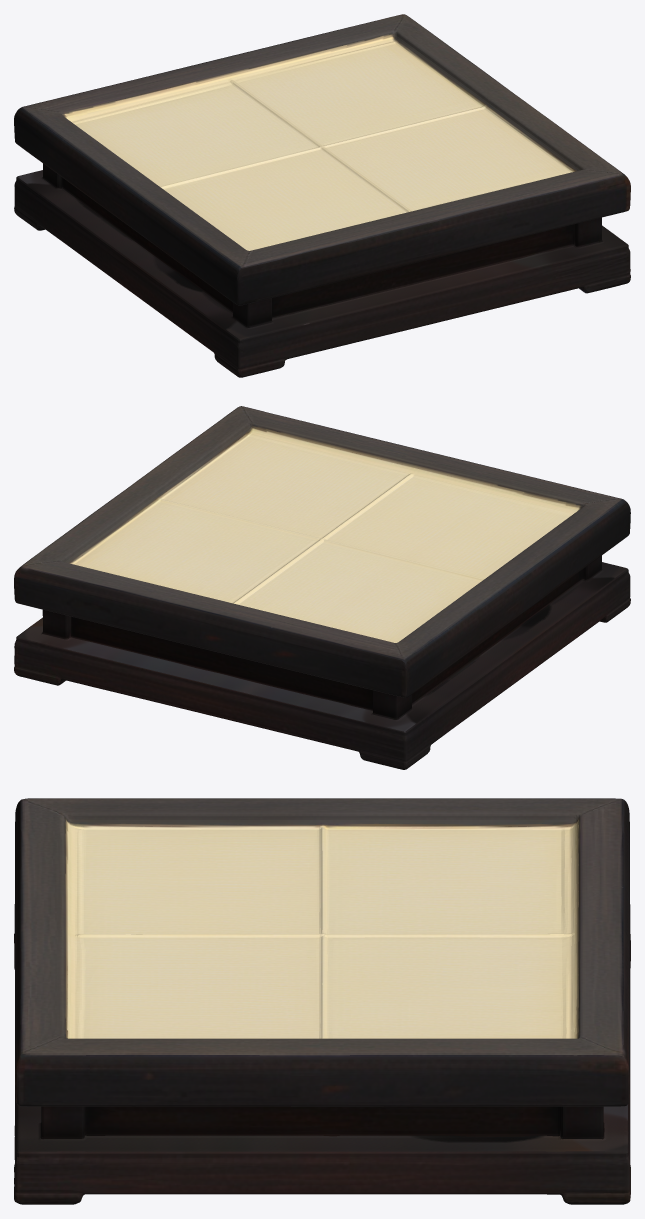
Rendered from traveler_env_coast_kamen_monastery_dais_00001_.glb.
The picture shows the model from 3 angles, top to bottom: view 1: azimuth 30°, elevation 25°; view 2: azimuth 150°, elevation 25°; view 3: azimuth 270°, elevation 25°; orthographic projection. The views are drawn at different scales.
Visible parts, largest first — view 1: temp_mesh.ply; view 2: temp_mesh.ply; view 3: temp_mesh.ply.
Part boxes in pixels (left/top/right/bottom): temp_mesh.ply: left=14, top=14, right=630, bottom=377; temp_mesh.ply: left=14, top=406, right=630, bottom=769; temp_mesh.ply: left=14, top=798, right=630, bottom=1204.
Size of the model in its own units: 1.97 by 0.5251 by 1.95.
Materials: 1 (1 with a texture image).
